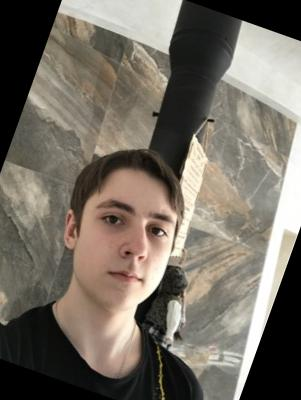without_mask: (55, 188, 184, 323)
